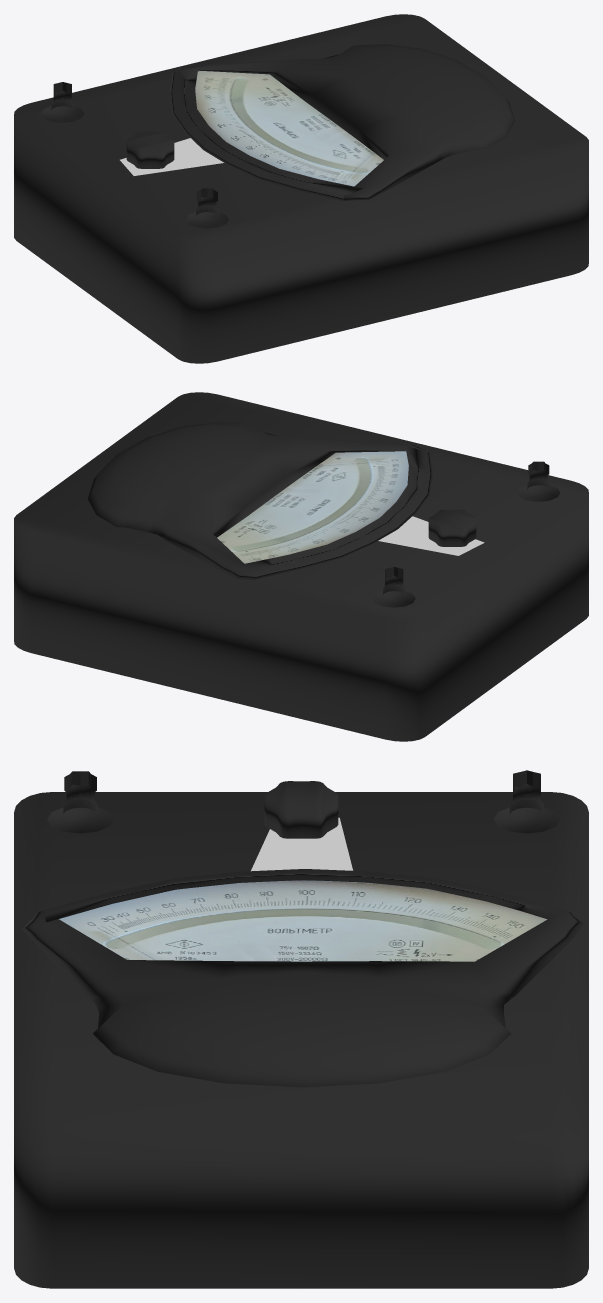
File: voltmetras.glb
The picture shows the model from 3 angles, top to bottom: view 1: azimuth 30°, elevation 25°; view 2: azimuth 150°, elevation 25°; view 3: azimuth 270°, elevation 25°; orthographic projection. The views are drawn at different scales.
Parts seen in each view (by area): view 1: Sphere, Plane; view 2: Sphere, Plane; view 3: Sphere, Plane.
Part boxes in pixels (x1=…): Sphere: x1=14, y1=14, x2=588, y2=363; Plane: x1=120, y1=138, x2=223, y2=175; Sphere: x1=14, y1=392, x2=588, y2=741; Plane: x1=378, y1=516, x2=484, y2=555; Sphere: x1=14, y1=770, x2=588, y2=1288; Plane: x1=251, y1=817, x2=353, y2=871.
Bounding box in the file's own units: 3.25 × 1.15 × 2.57.
Materials: 4 (1 with a texture image).
